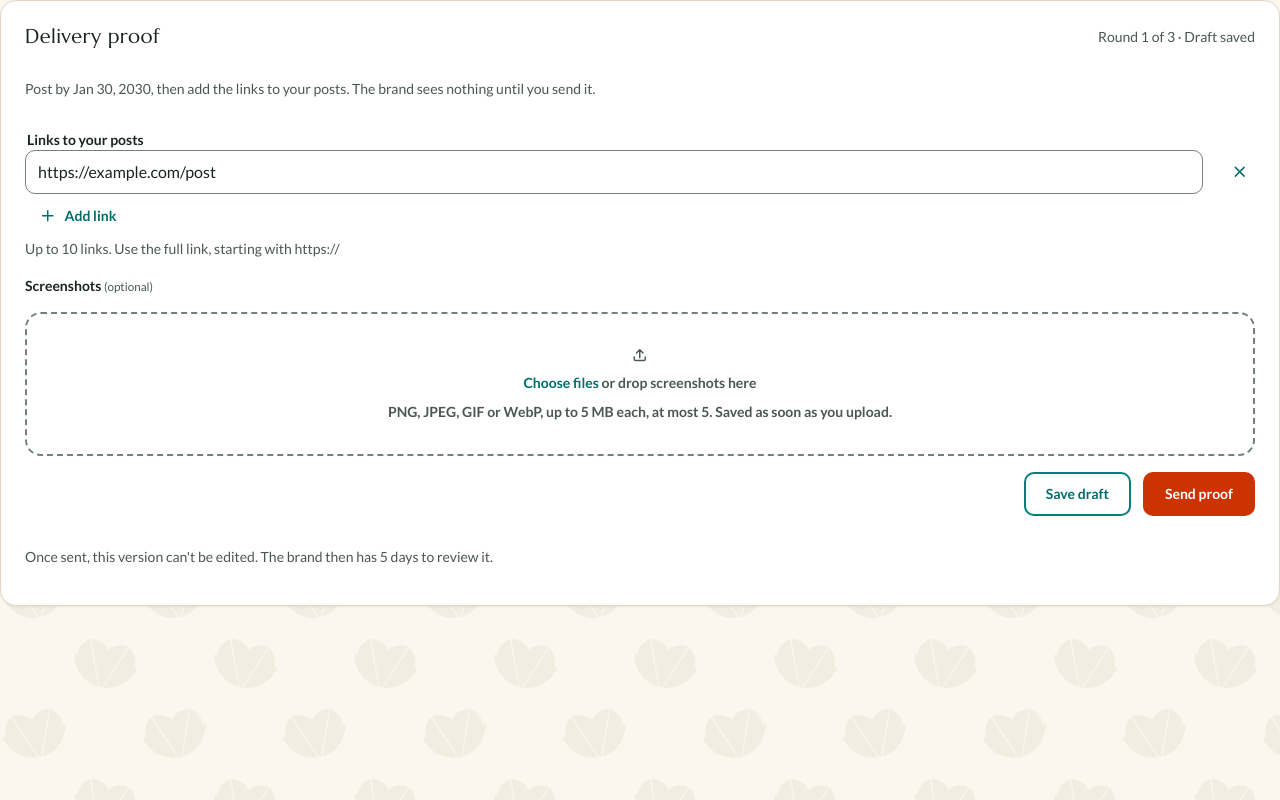
keeps screenshots optional when the campaign does not require them
Expected: the text "(optional)" is shown, [104,279,153,293]
Click the button "Send proof".
click(1199, 494)  # box [1143,472,1255,516]
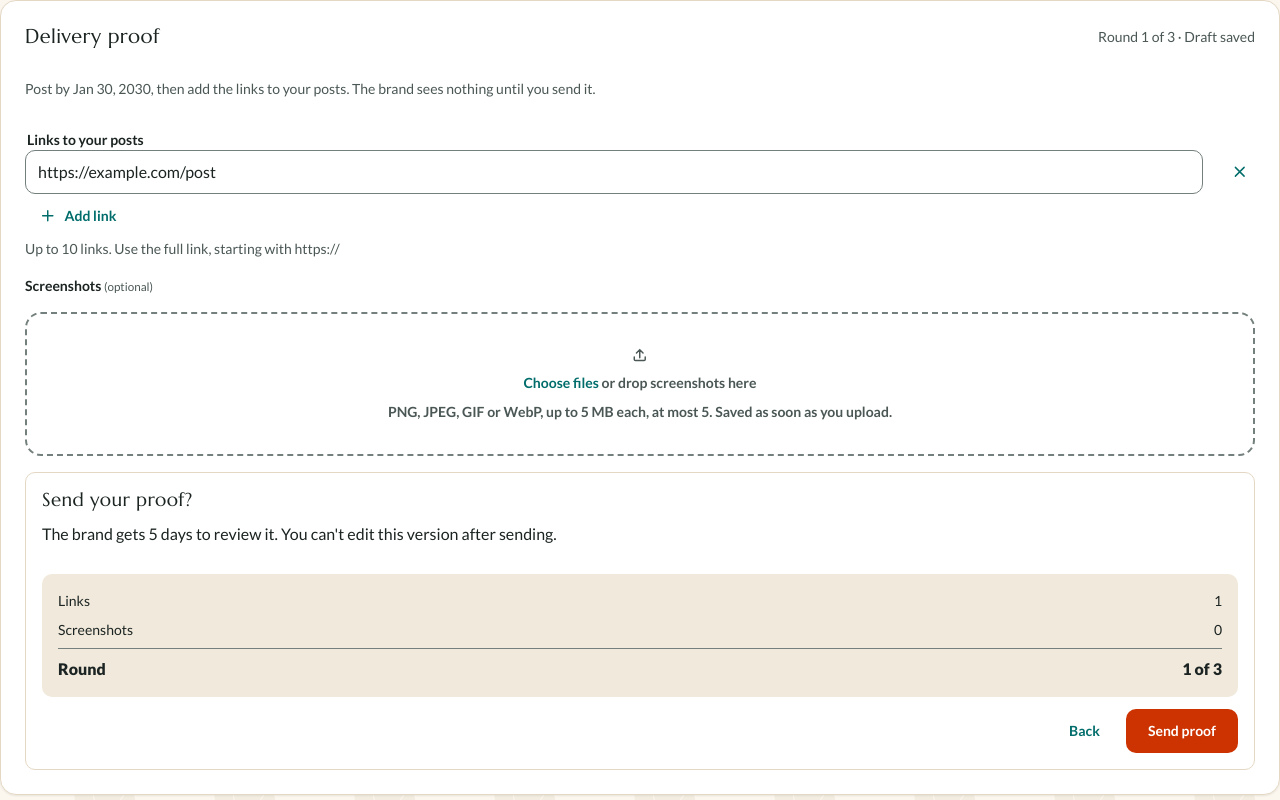
Expected: the element "Send your proof?" is shown, [25,472,1255,770]
